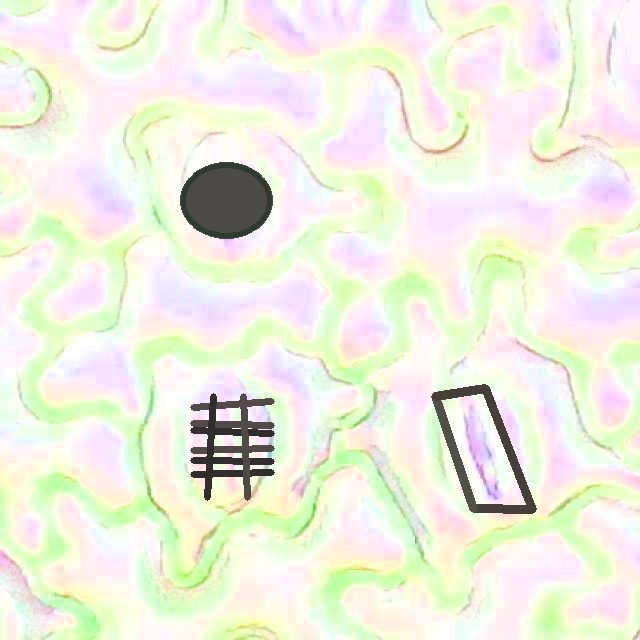open: (431, 384, 536, 512), (190, 393, 274, 500), (180, 162, 272, 238)
